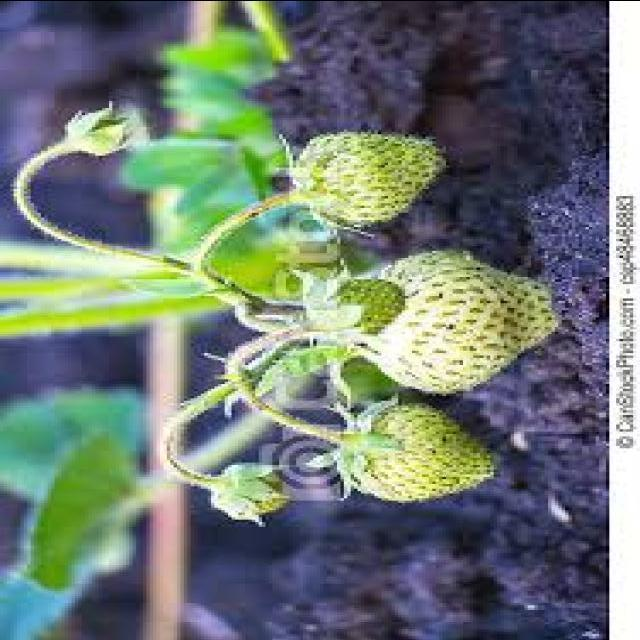unripe: (352, 249, 558, 392), (332, 402, 498, 500), (299, 130, 444, 222), (311, 276, 402, 342)
